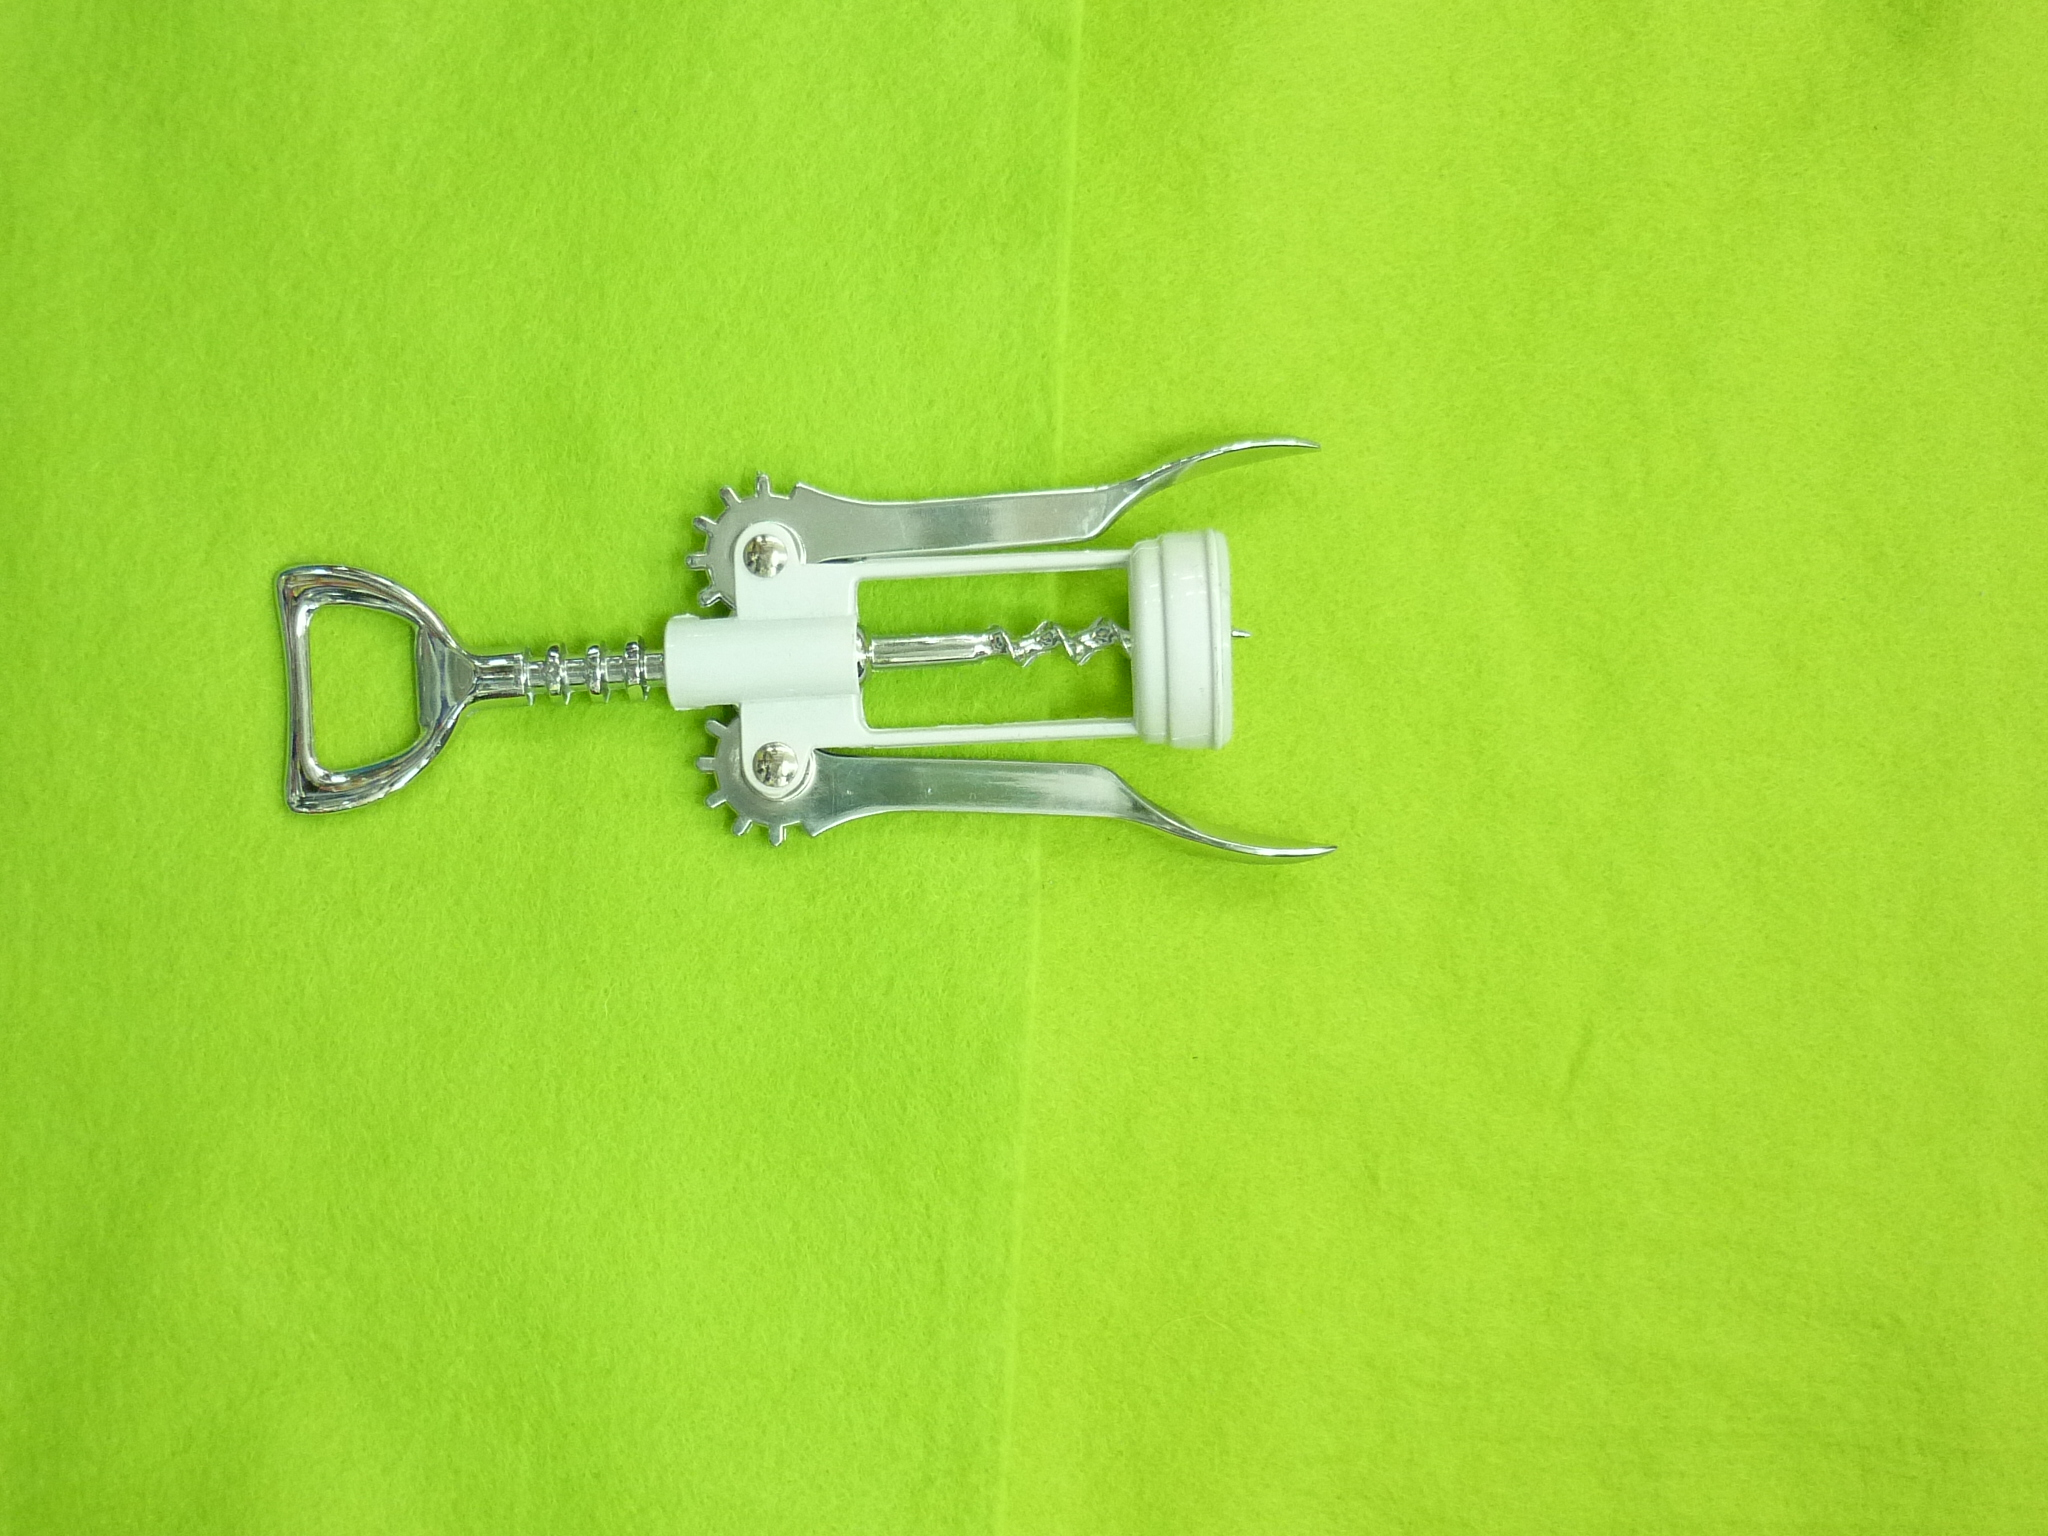bottleopener: (273, 436, 1335, 868)
